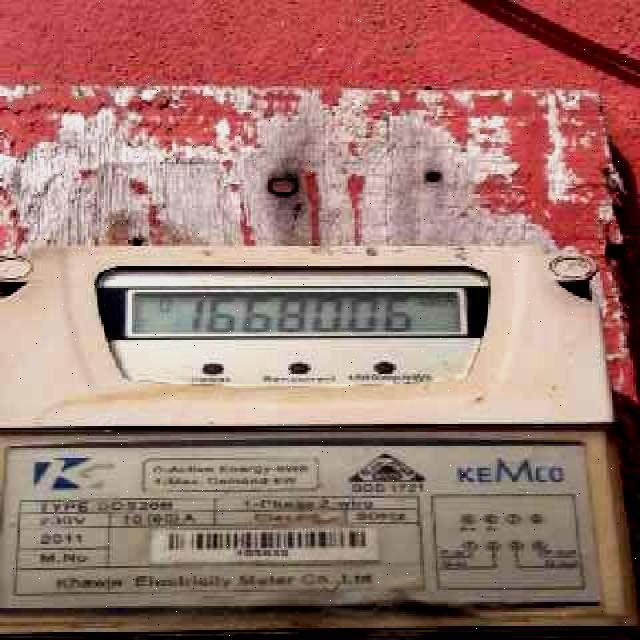LCD: (121, 280, 475, 341)
